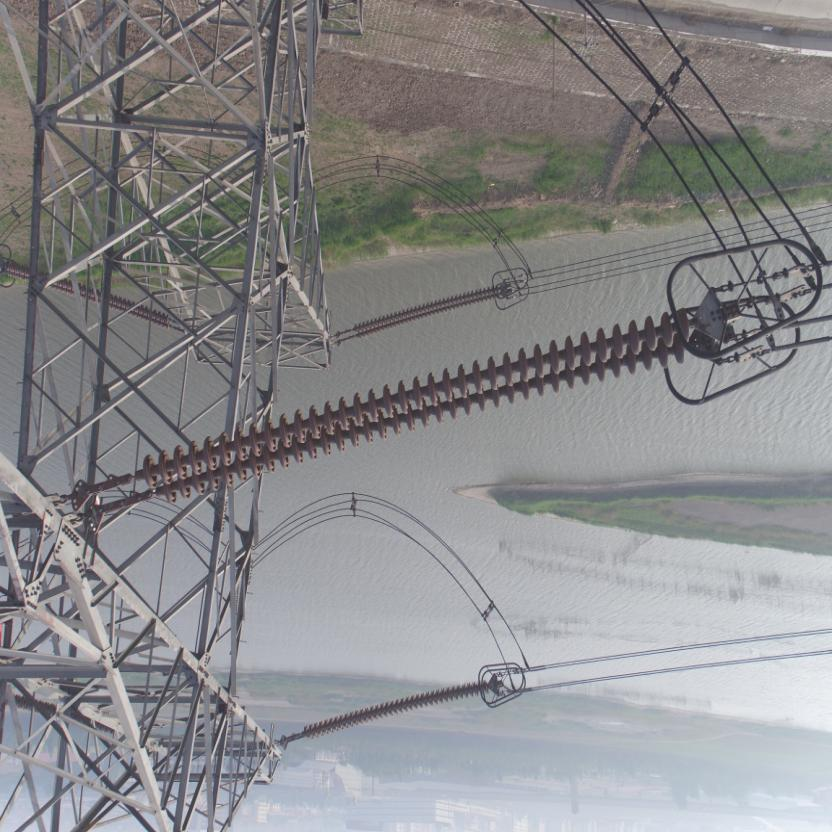insulator: (131, 308, 701, 508), (294, 677, 490, 745), (346, 282, 502, 346)
